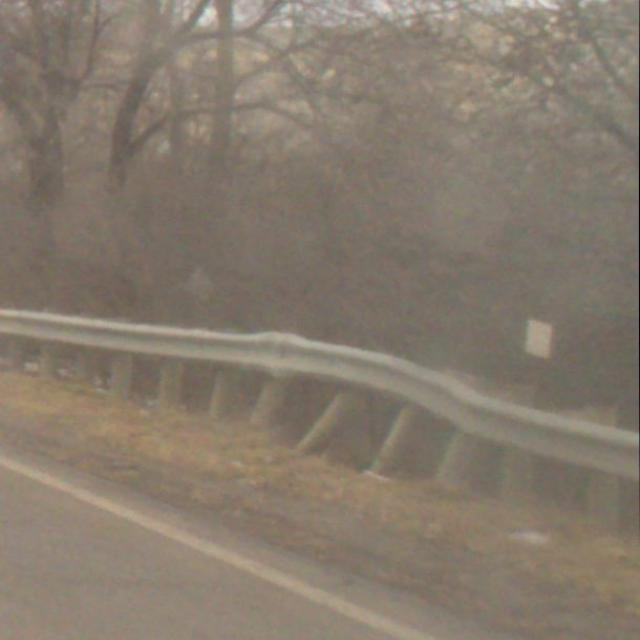Guard rail: (0, 301, 640, 537)
